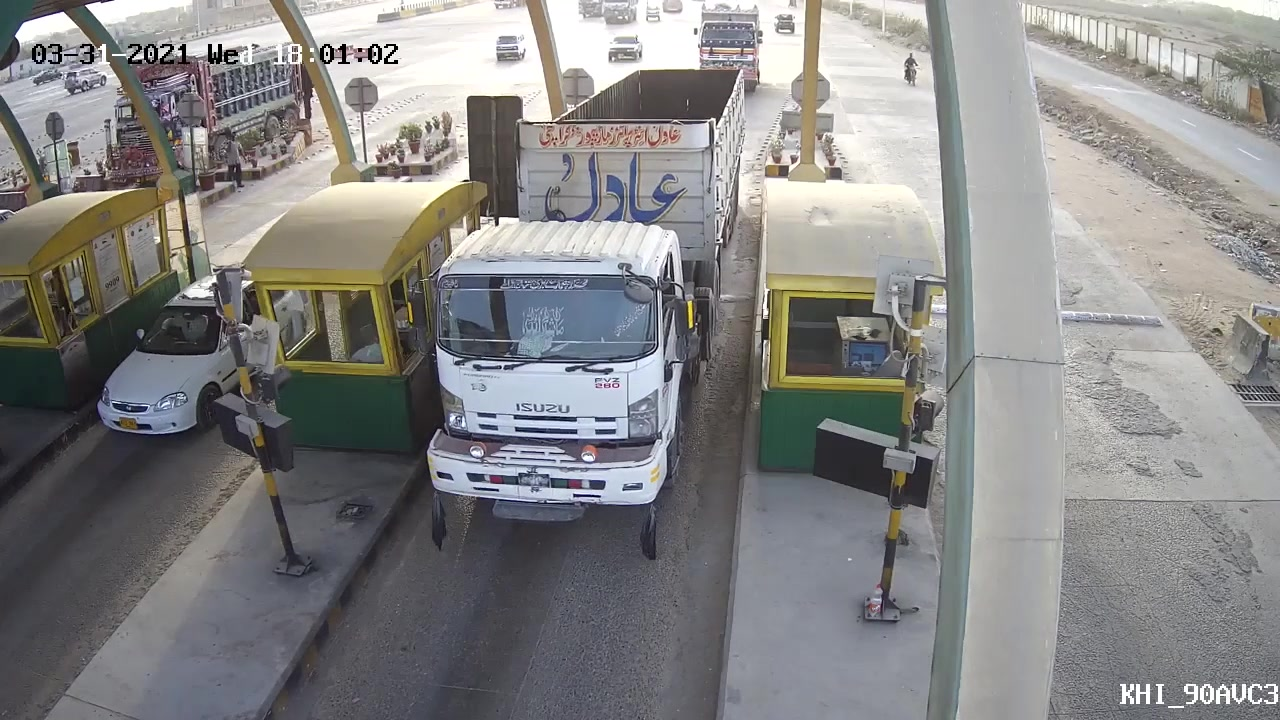F6: (424, 61, 751, 533)
